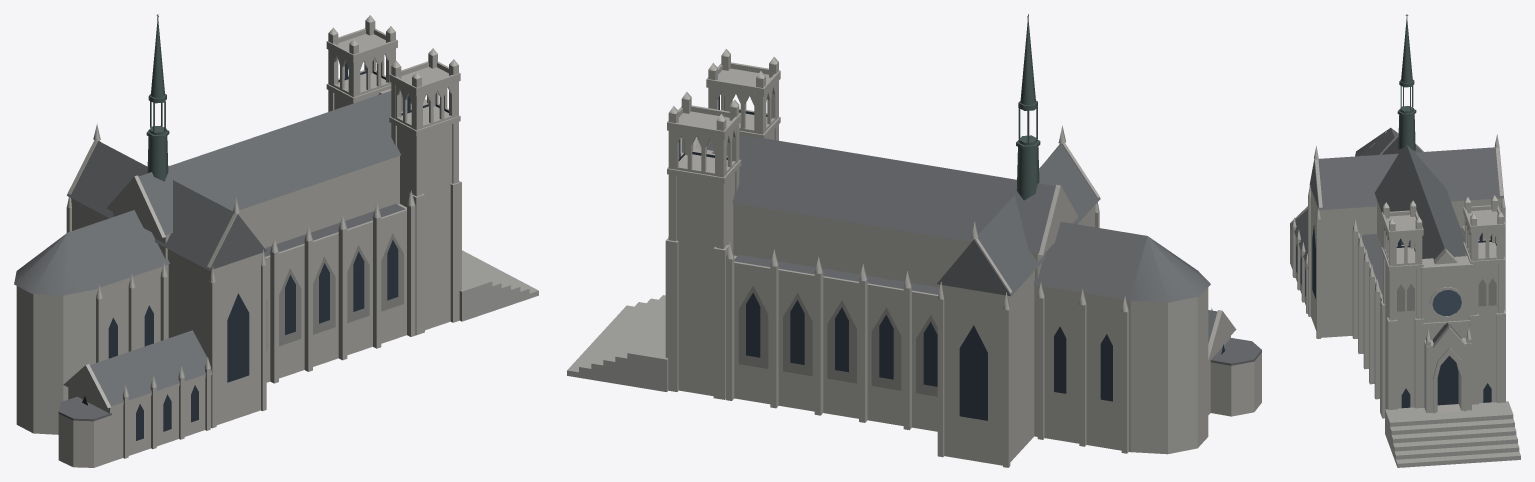
The model's file is grace-cathedral-far.glb.
3 renders of one model, left to right at view 1: azimuth 30°, elevation 25°; view 2: azimuth 150°, elevation 25°; view 3: azimuth 270°, elevation 25°, orthographic. The views are drawn at different scales.
Parts seen in each view (by area): view 1: grace-cathedral-0-stone, grace-cathedral-0-roof, grace-cathedral-0-glass, grace-cathedral-0-recess, grace-cathedral-0-concrete, grace-cathedral-0-spire; view 2: grace-cathedral-0-stone, grace-cathedral-0-roof, grace-cathedral-0-glass, grace-cathedral-0-concrete, grace-cathedral-0-recess, grace-cathedral-0-spire; view 3: grace-cathedral-0-stone, grace-cathedral-0-roof, grace-cathedral-0-concrete, grace-cathedral-0-glass, grace-cathedral-0-spire, grace-cathedral-0-recess, grace-cathedral-0-glow.
Part boxes in pixels (x1,y1,x2,y2): grace-cathedral-0-stone: [16, 15, 461, 467]; grace-cathedral-0-roof: [14, 91, 411, 421]; grace-cathedral-0-glass: [82, 60, 448, 440]; grace-cathedral-0-recess: [266, 233, 403, 350]; grace-cathedral-0-concrete: [459, 250, 538, 321]; grace-cathedral-0-spire: [146, 14, 169, 181]; grace-cathedral-0-stone: [665, 49, 1261, 467]; grace-cathedral-0-roof: [707, 134, 1261, 365]; grace-cathedral-0-glass: [678, 96, 1224, 420]; grace-cathedral-0-concrete: [567, 295, 668, 391]; grace-cathedral-0-recess: [738, 285, 937, 396]; grace-cathedral-0-spire: [1016, 14, 1040, 200]; grace-cathedral-0-stone: [1290, 133, 1505, 418]; grace-cathedral-0-roof: [1290, 127, 1503, 343]; grace-cathedral-0-concrete: [1385, 401, 1520, 467]; grace-cathedral-0-glass: [1296, 225, 1496, 408]; grace-cathedral-0-spire: [1397, 14, 1416, 150]; grace-cathedral-0-recess: [1397, 278, 1496, 311]; grace-cathedral-0-glow: [1432, 290, 1461, 316].
Size of the model in its own units: 113 by 75 by 51.77.
